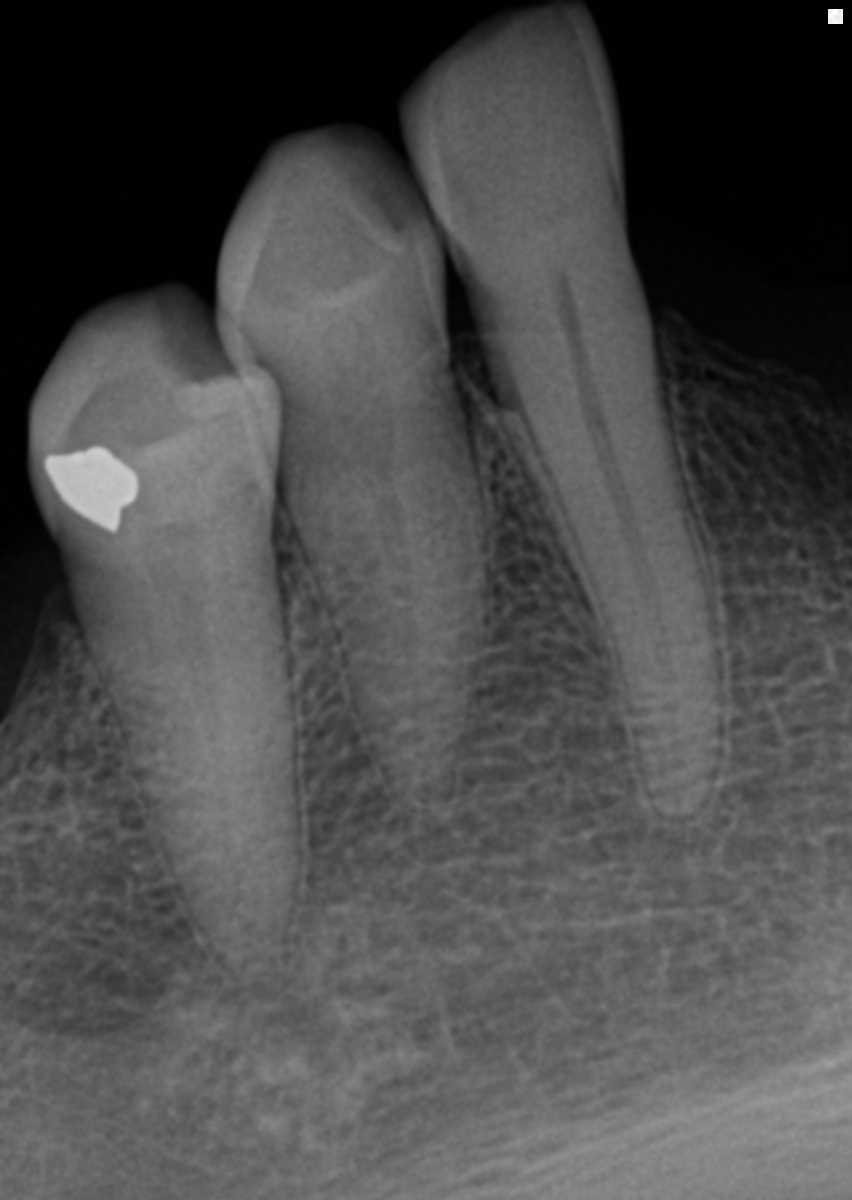Main Canal: (555, 309, 684, 806), (142, 525, 259, 983), (345, 390, 424, 810)
Main Root: (476, 284, 729, 817), (64, 477, 301, 993), (258, 347, 486, 809)
